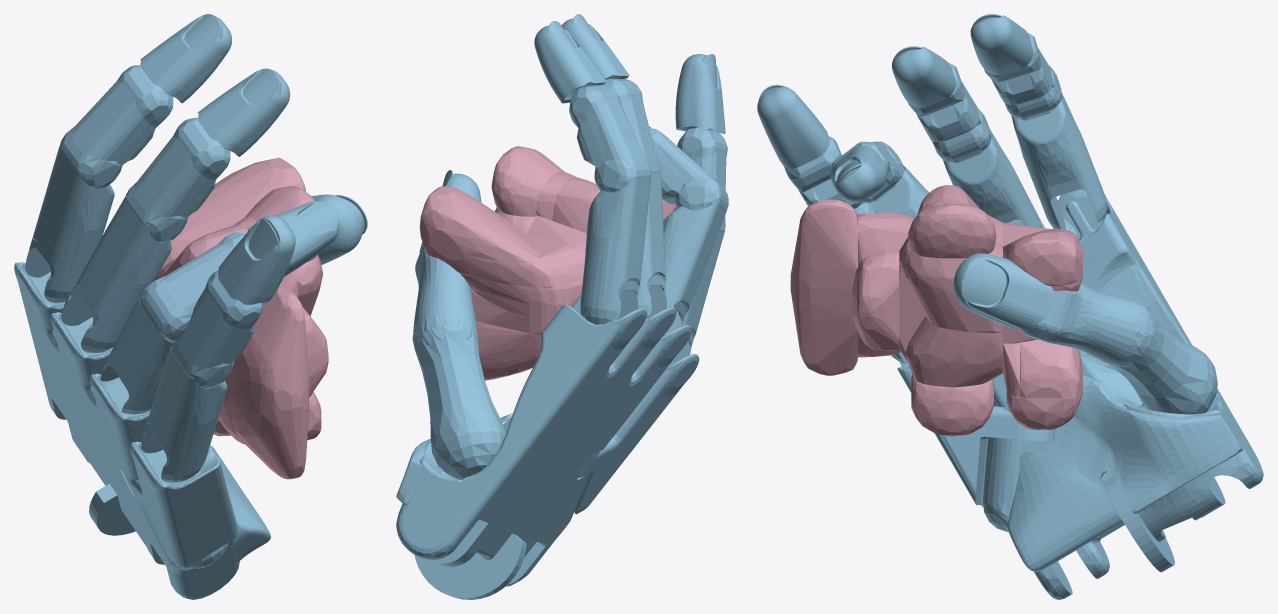
The picture shows the model from 3 angles, left to right: view 1: azimuth 30°, elevation 25°; view 2: azimuth 150°, elevation 25°; view 3: azimuth 270°, elevation 25°; orthographic projection. The views are drawn at different scales.
Parts seen in each view (by area): view 1: hand_isaac_q, world; view 2: hand_isaac_q, world; view 3: hand_isaac_q, world.
Boxes of the visible parts, x1,y1,x2,y2 form: hand_isaac_q: [14, 14, 367, 599]; world: [155, 157, 328, 479]; hand_isaac_q: [396, 14, 728, 599]; world: [419, 146, 676, 380]; hand_isaac_q: [757, 14, 1263, 599]; world: [790, 185, 1082, 436].
Bounding box in the file's own units: 0.0982 × 0.2019 × 0.1619.
